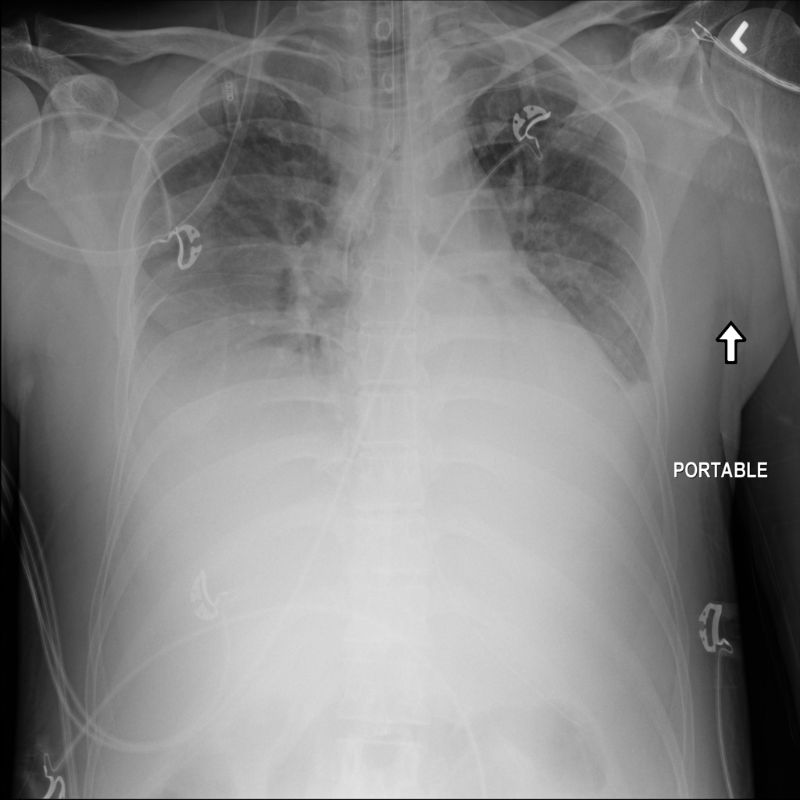Pleural Effusion: (109, 279, 346, 518), (547, 320, 689, 492)
